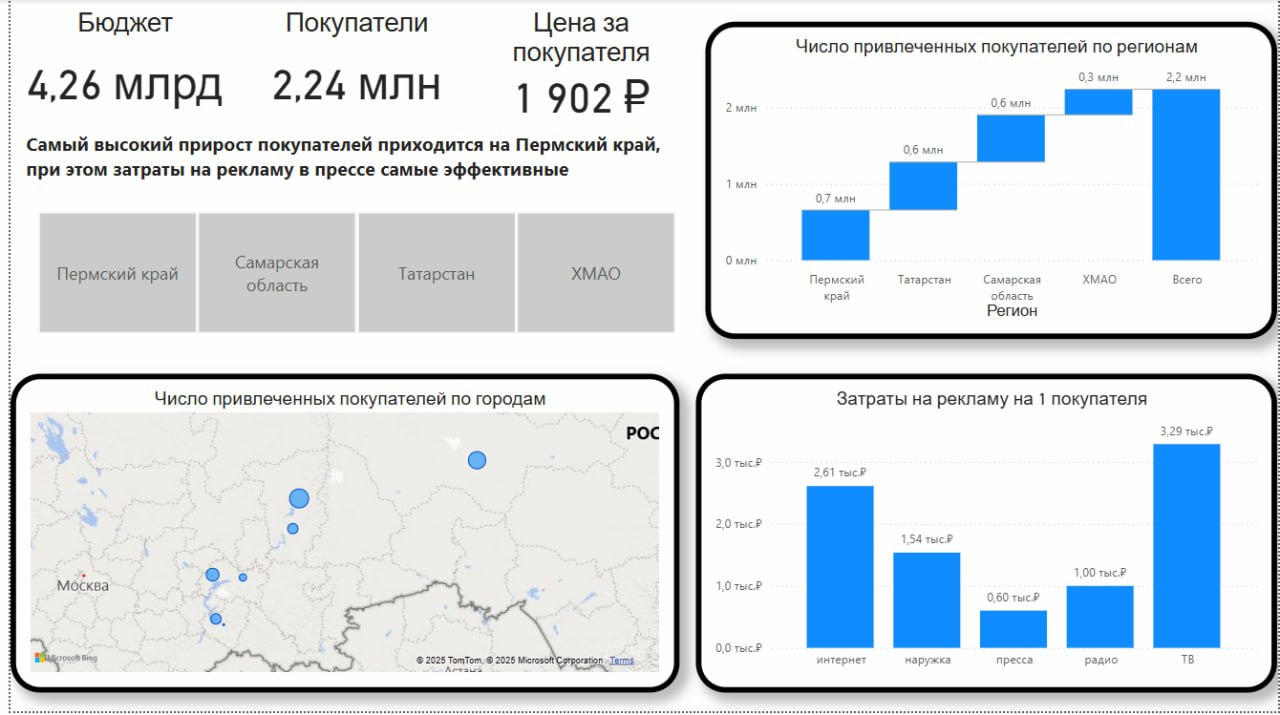

Layout of this report page (visuals, bound fields, positions):
{"tool":"powerbi","page":{"name":"Ver 1","canvas":[1280,720],"ordinal":0},"visuals":[{"type":"waterfallChart","title":"Число привлеченных покупателей по регионам","fields":{"Y":["Sum(Бюджет.Число привлеченных покупателей)"],"Category":["Бюджет.Регион"]},"box":[702.1,22.9,577.9,320.9],"z":0},{"type":"map","title":" Число привлеченных покупателей по городам","fields":{"Category":["Лист1.Город"],"Size":["Sum(Лист1.Число привлеченных покупателей)"]},"box":[0,379.2,675.6,322.1],"z":1000},{"type":"slicer","fields":{"Values":["Бюджет.Регион"]},"box":[2.7,208.6,693,135.8],"z":2000},{"type":"card","title":"Бюджет","fields":{"Values":["Sum(Бюджет.Бюджет)"]},"box":[0,8.4,231.6,120.6],"z":3000},{"type":"card","title":" Покупатели","fields":{"Values":["Sum(Лист1.Число привлеченных покупателей)"]},"box":[231.6,8.4,236.5,120.6],"z":4000},{"type":"card","title":"Цена за  покупателя","fields":{"Values":["Бюджет.Сумма Бюджет разделить на Сумма Число привлеченных покупателей"]},"box":[460.9,8.4,231.6,120.6],"z":5000},{"type":"columnChart","title":"Затраты на рекламу на 1 покупателя","fields":{"Category":["КаналыПорядок.Канал"],"Y":["Бюджет.Сумма Бюджет разделить на Сумма Число привлеченных покупателей 2"]},"box":[692.7,379.2,587.3,322.1],"z":6000},{"type":"textbox","box":[11,129,682,68.6],"z":7000}]}

Visuals, with their boxes in screenshot pixels (x1, y1, x2, y2), scaled from the page's 1280x720 canvas onto the 1280x715 screenshot:
"Число привлеченных покупателей по регионам" waterfallChart: bbox(702, 23, 1279, 341)
" Число привлеченных покупателей по городам" map: bbox(0, 377, 676, 696)
slicer - Бюджет.Регион: bbox(3, 207, 696, 342)
"Бюджет" card: bbox(0, 8, 232, 128)
" Покупатели" card: bbox(232, 8, 468, 128)
"Цена за  покупателя" card: bbox(461, 8, 692, 128)
"Затраты на рекламу на 1 покупателя" columnChart: bbox(693, 377, 1279, 696)
textbox: bbox(11, 128, 693, 196)
